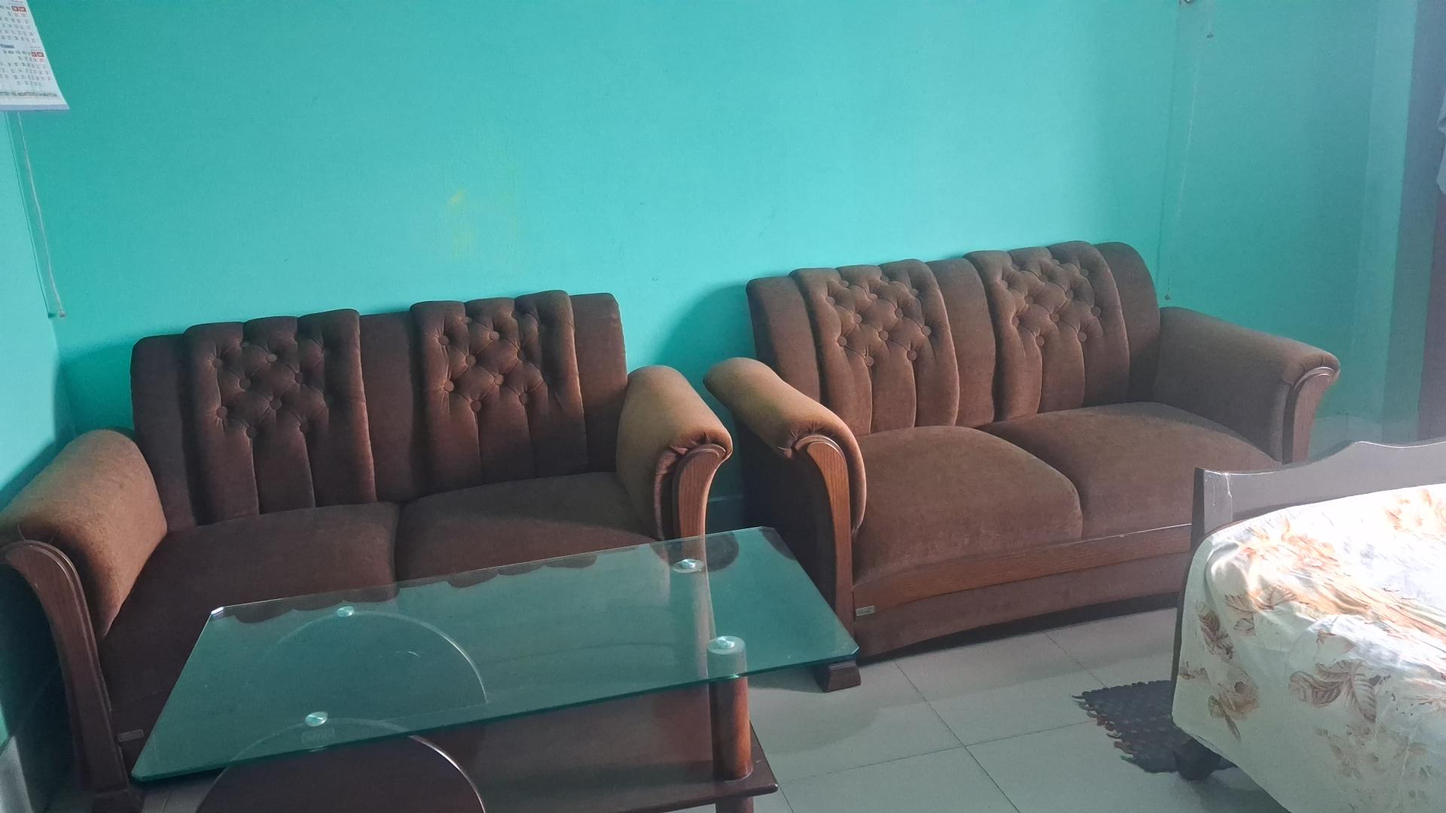Table: (147, 527, 863, 813)
